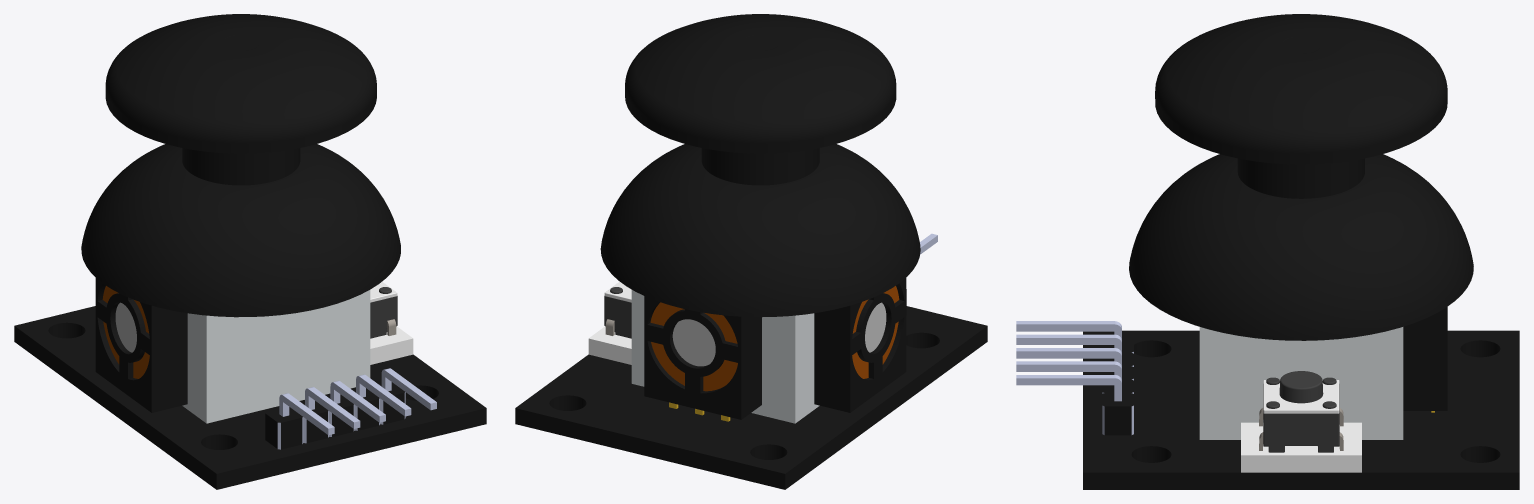
Rendered from joystick.glb.
The picture shows the model from 3 angles, left to right: view 1: azimuth 30°, elevation 25°; view 2: azimuth 150°, elevation 25°; view 3: azimuth 270°, elevation 25°; orthographic projection. The views are drawn at different scales.
Parts seen in each view (by area): view 1: joystickhead-1, board-1, body-1, potentiometer-2, tactileswitch-short-1; view 2: joystickhead-1, board-1, potentiometer-1, potentiometer-2, body-1, tactileswitch-short-1; view 3: joystickhead-1, board-1, body-1, tactileswitch-short-1, potentiometer-1.
Part boxes in pixels (x1,y1,x2,y2): joystickhead-1: (81, 14, 400, 317); board-1: (14, 306, 486, 489); body-1: (182, 290, 413, 423); potentiometer-2: (95, 278, 187, 412); tactileswitch-short-1: (370, 282, 397, 338); joystickhead-1: (600, 14, 920, 317); board-1: (515, 233, 987, 489); potentiometer-1: (644, 296, 761, 421); potentiometer-2: (814, 278, 906, 412); body-1: (588, 290, 819, 423); tactileswitch-short-1: (604, 282, 631, 338); joystickhead-1: (1129, 14, 1473, 340); board-1: (1016, 321, 1519, 489); body-1: (1199, 327, 1403, 472); tactileswitch-short-1: (1259, 371, 1343, 452); potentiometer-1: (1403, 307, 1447, 412).
Size of the model in its own units: 0.0277 by 0.0345 by 0.0395.
